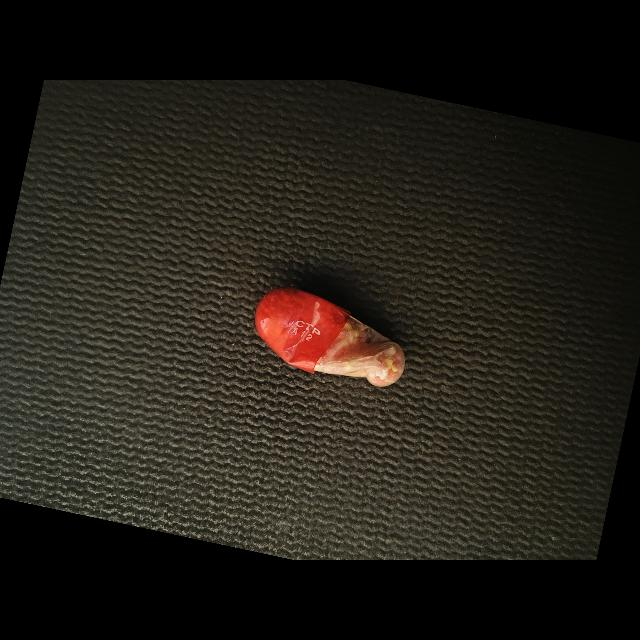Defective Capsule: (255, 288, 405, 387)
